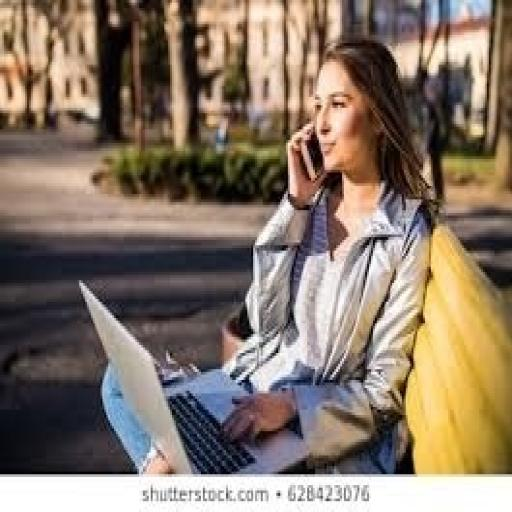sitting: (98, 35, 434, 474)
